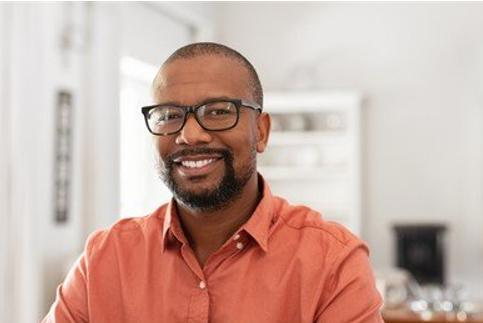Sober: (155, 67, 254, 188)
